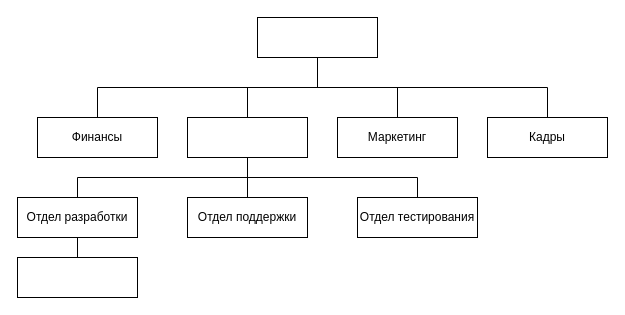
Some shapes in this 625 by 315 pixel diagram are drawn without their labels. Each missing label, with the box of its shape:
IT: (186, 116, 308, 158)
Компания: (256, 16, 378, 58)
Маша: (16, 256, 138, 298)
